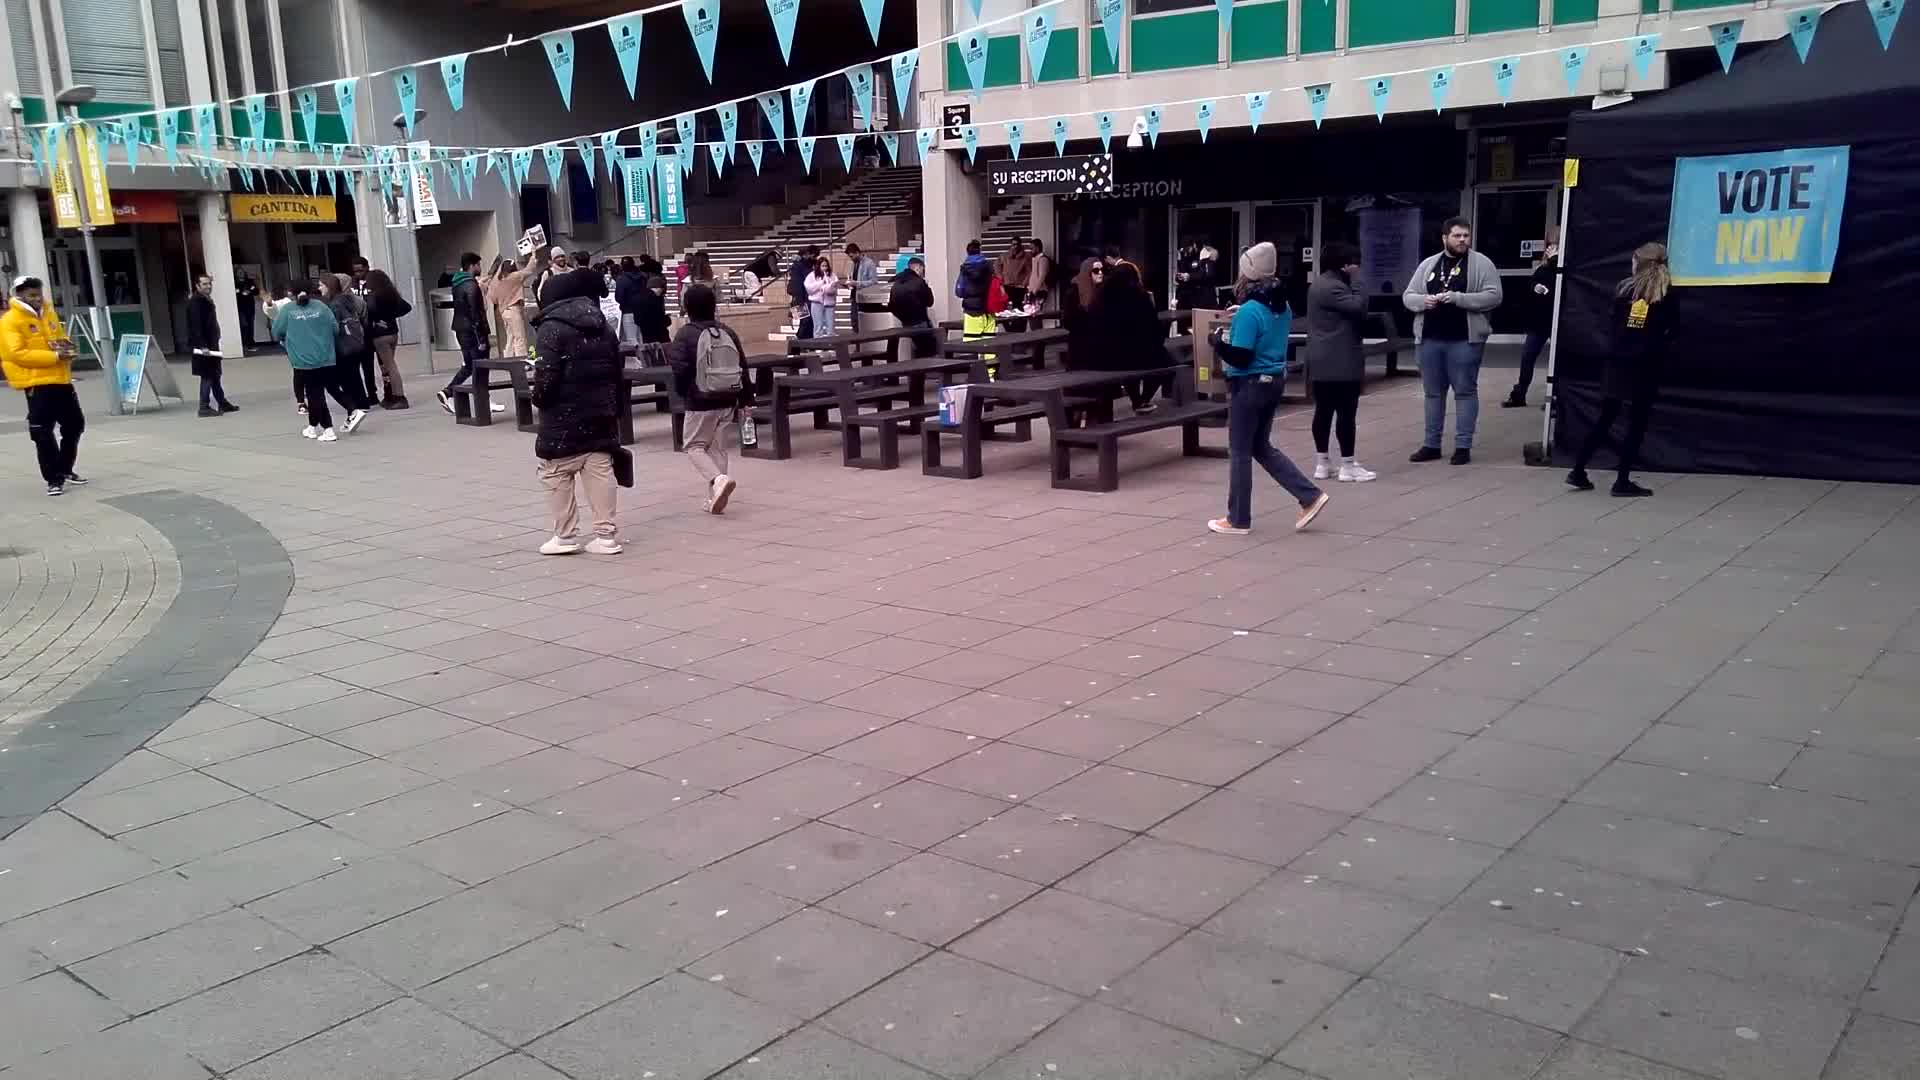Backpack: (562, 314, 629, 422), (694, 322, 752, 406)
Bench: (952, 369, 1229, 502), (764, 357, 964, 475), (457, 351, 540, 439)
Person: (538, 281, 630, 562), (1228, 243, 1310, 543), (1413, 217, 1496, 471), (5, 271, 94, 497), (669, 290, 754, 513), (276, 283, 348, 443), (178, 271, 242, 426), (1070, 258, 1133, 369), (450, 251, 490, 417), (892, 255, 934, 337)
